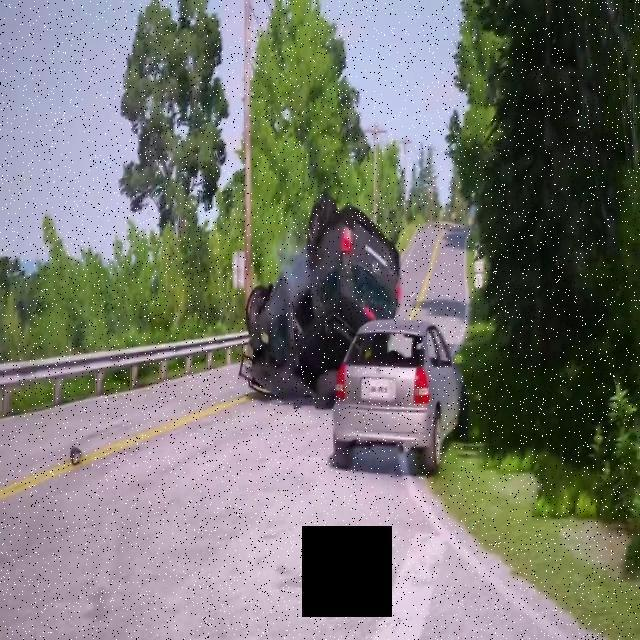normal: (300, 320, 520, 489)
single accident: (236, 179, 390, 381)
